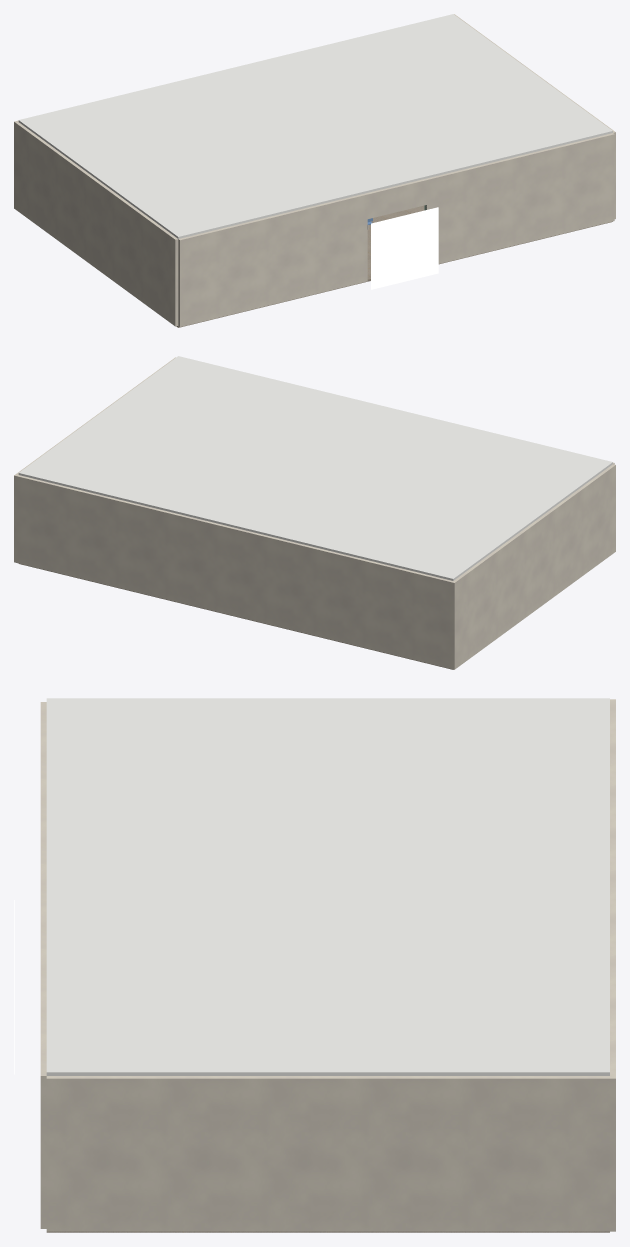
Rendered from room_hospital_gov.glb.
3 renders of one model, top to bottom at view 1: azimuth 30°, elevation 25°; view 2: azimuth 150°, elevation 25°; view 3: azimuth 270°, elevation 25°, orthographic. The views are drawn at different scales.
Visible parts, largest first — view 1: Room; view 2: Room; view 3: Room.
Boxes of the visible parts, <box> form: Room: <box>14,14,615,327</box>; Room: <box>14,356,615,669</box>; Room: <box>14,698,615,1232</box>.
Bounding box in the file's own units: 22.3 × 4.4 × 14.96.
Materials: 23 (4 with a texture image).
